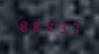eight: (18, 18, 29, 33)
four: (42, 19, 53, 34)
seven: (66, 20, 77, 34)
six: (30, 19, 41, 33)
three: (54, 20, 65, 34)
